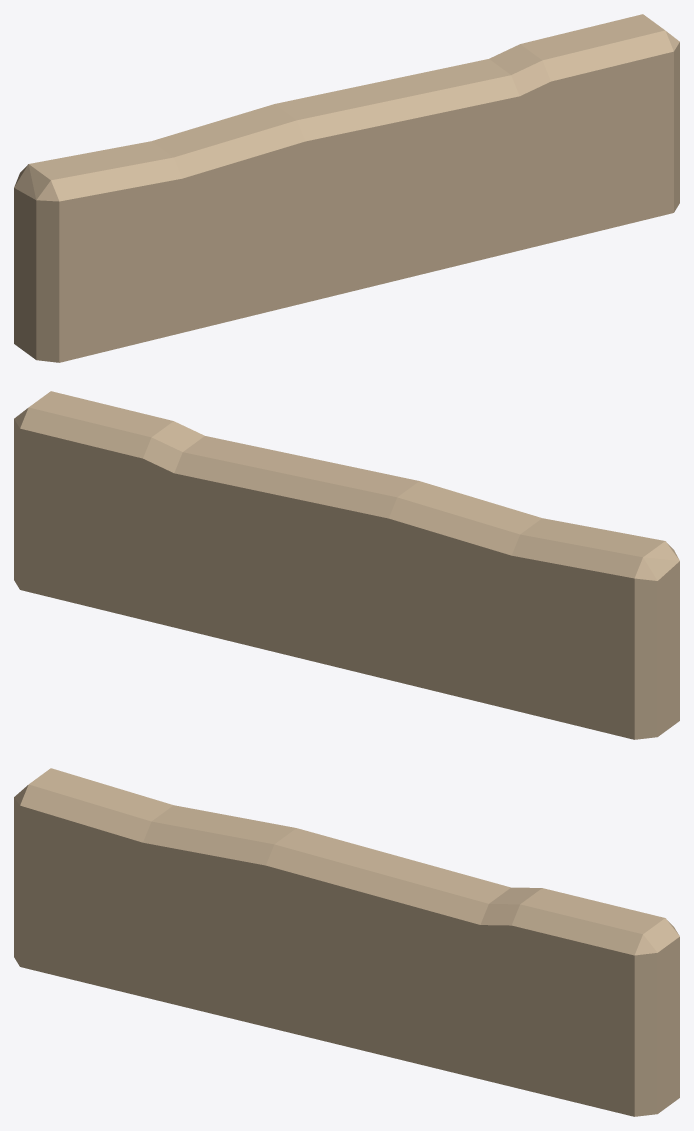
File: SM_Bld_Wall_01.fbx
3 views of the same model, one above another, from view 1: azimuth 30°, elevation 25°; view 2: azimuth 150°, elevation 25°; view 3: azimuth 330°, elevation 25° (orthographic).
Visible parts, largest first — view 1: SM_Bld_Wall_01; view 2: SM_Bld_Wall_01; view 3: SM_Bld_Wall_01.
Boxes of the visible parts, x1=… form: SM_Bld_Wall_01: x1=14, y1=14, x2=679, y2=362; SM_Bld_Wall_01: x1=14, y1=391, x2=679, y2=739; SM_Bld_Wall_01: x1=14, y1=768, x2=679, y2=1116.
Size of the model in its own units: 0.0396 by 0.0104 by 0.0042.
1 material, 1 textured.
